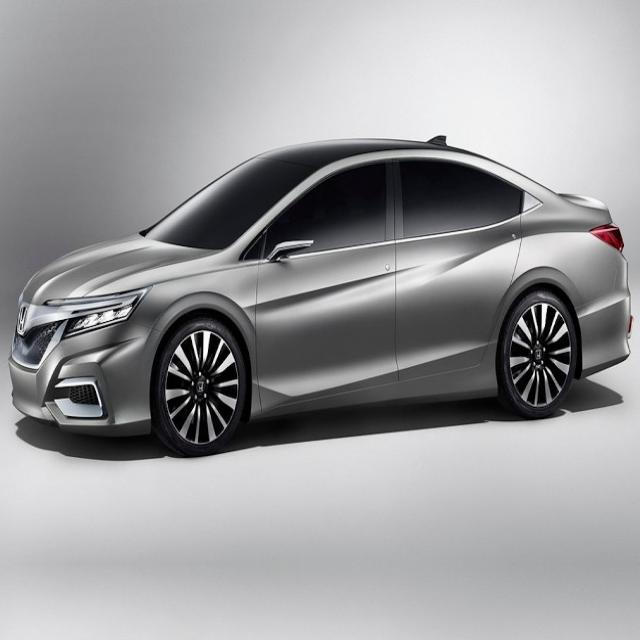back_left_side_light: (587, 223, 626, 253)
door: (396, 162, 530, 402)
front_bumper: (6, 356, 119, 438)
front_left_side_light: (61, 286, 150, 344)
front_left_side_mirror: (266, 237, 315, 265)
front_right_side_door: (255, 159, 400, 416)
wheel: (154, 319, 248, 455), (503, 294, 577, 416)
